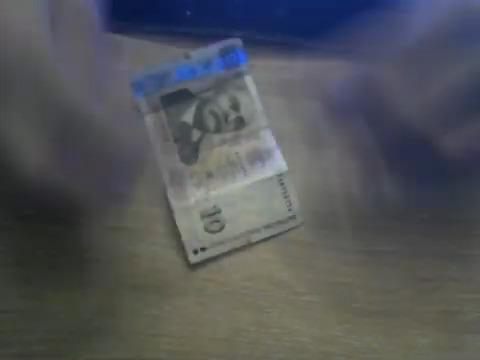10leva: (129, 38, 303, 270)
